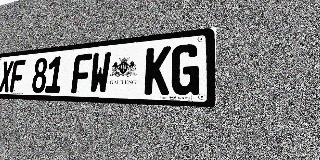1: (45, 56, 64, 93)
8: (31, 57, 49, 93)
F: (71, 53, 92, 93), (9, 59, 26, 92)
G: (170, 43, 200, 95)
K: (144, 46, 171, 95)
W: (89, 51, 111, 94)
X: (0, 61, 14, 92)
